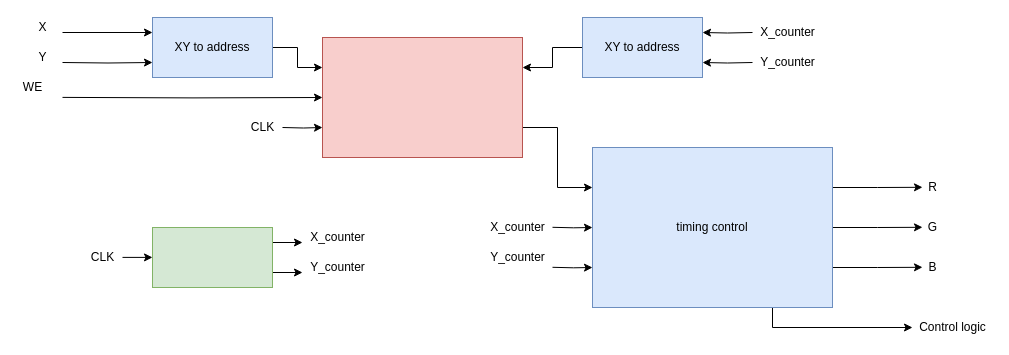
Some shapes in this 1009 by 355 pixel diagram are drawn without their labels. Each missing label, with the centre of its shape:
RAM: the point at 422,97
xy counter: the point at 212,257
